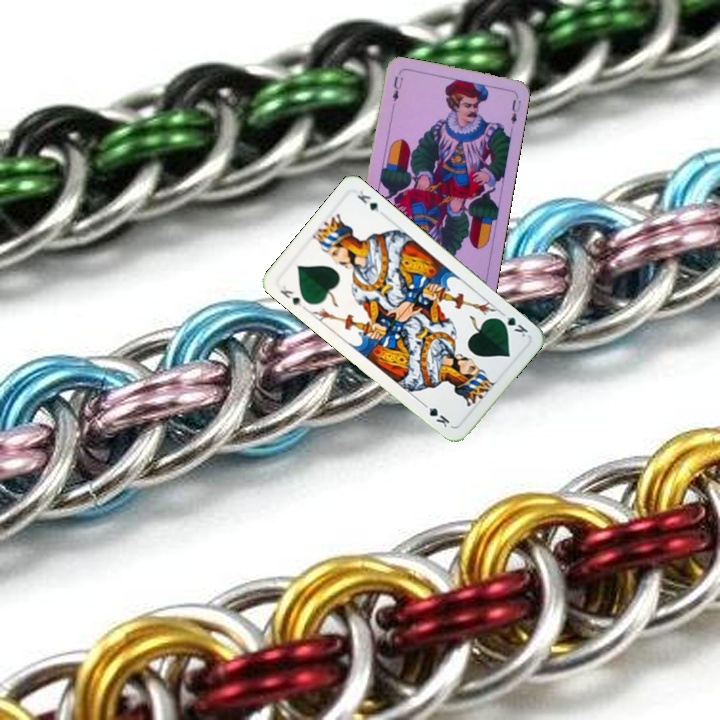EU: (388, 72, 406, 104)
GK: (494, 308, 531, 340), (276, 281, 304, 309)
